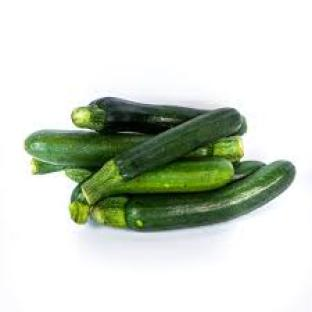Zucchini: (82, 109, 241, 203), (92, 161, 295, 230), (107, 157, 234, 195), (73, 98, 207, 133), (25, 131, 152, 167), (70, 181, 90, 224), (233, 161, 264, 181), (31, 159, 67, 174), (66, 168, 97, 183)
